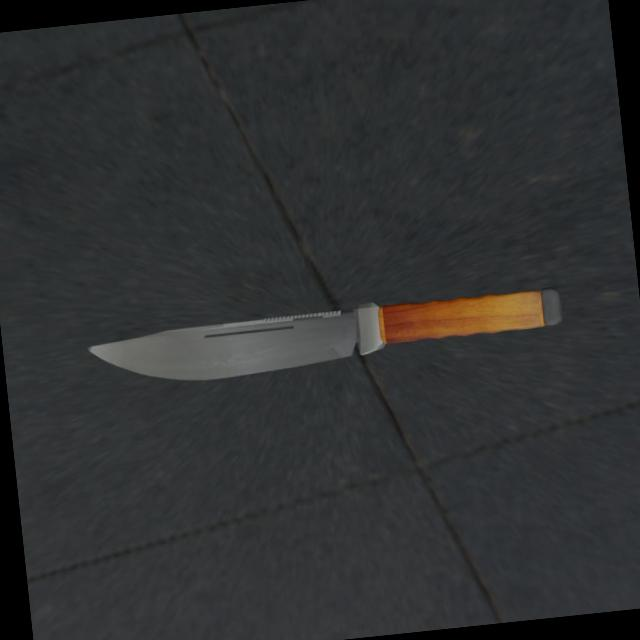knife: (352, 284, 550, 350)
